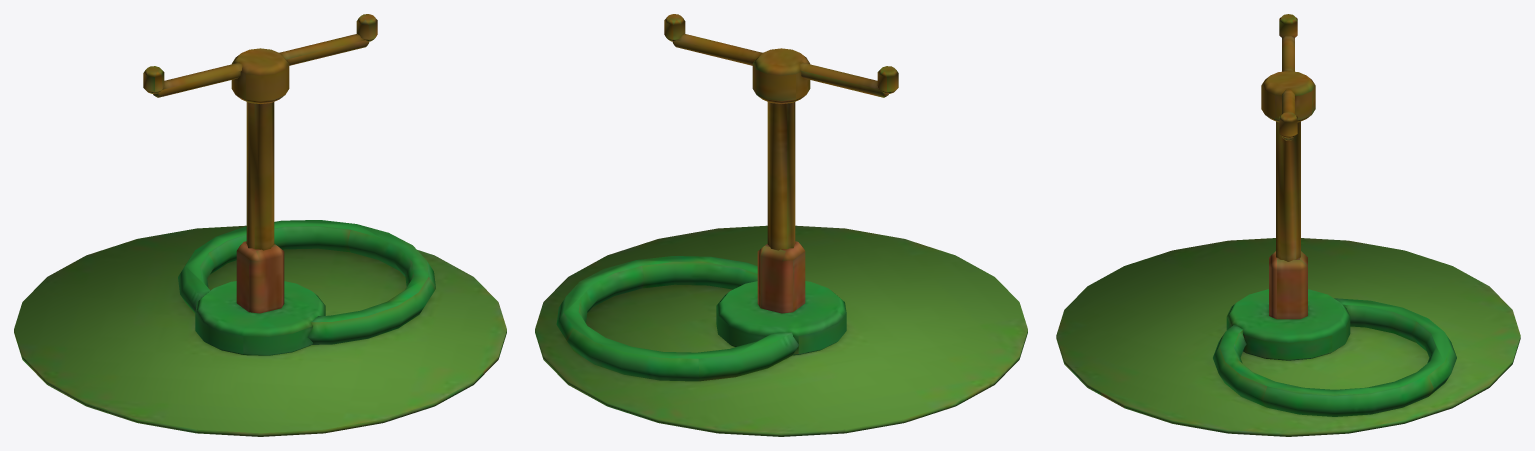
Rendered from sprinkler.glb.
3 renders of one model, left to right at view 1: azimuth 30°, elevation 25°; view 2: azimuth 150°, elevation 25°; view 3: azimuth 270°, elevation 25°, orthographic. The views are drawn at different scales.
Visible parts, largest first — view 1: sprinkler, spinY_head; view 2: sprinkler, spinY_head; view 3: sprinkler, spinY_head.
Boxes of the visible parts, box(x1,y1,x2,y2) form: sprinkler: box(14, 102, 506, 436); spinY_head: box(143, 14, 377, 103); sprinkler: box(535, 102, 1027, 436); spinY_head: box(664, 14, 898, 103); sprinkler: box(1056, 121, 1520, 436); spinY_head: box(1261, 14, 1315, 140).
Size of the model in its own units: 0.6 by 0.39 by 0.6.
1 material, 1 textured.
